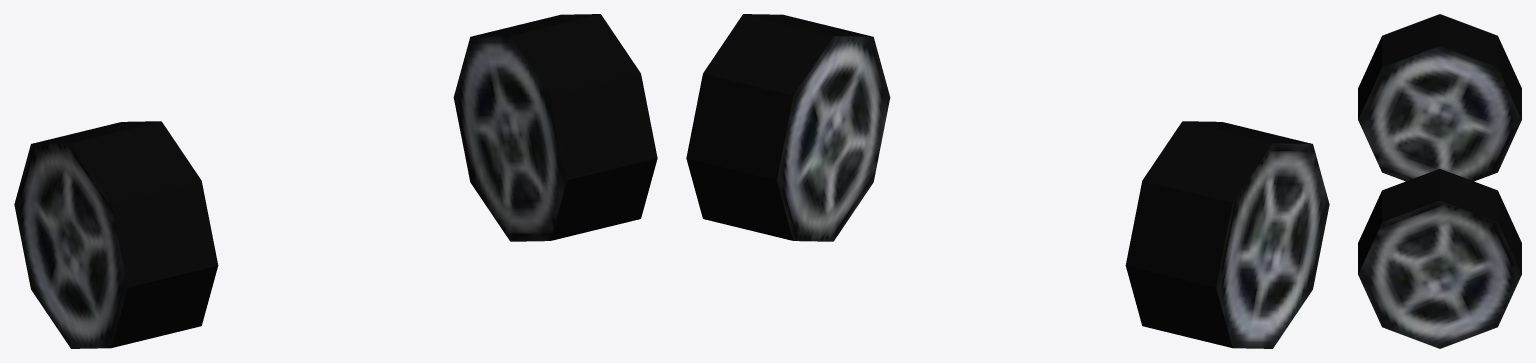
The model's file is skyline_r32_wheels_r.obj.
The picture shows the model from 3 angles, left to right: view 1: azimuth 30°, elevation 25°; view 2: azimuth 150°, elevation 25°; view 3: azimuth 270°, elevation 25°; orthographic projection. The views are drawn at different scales.
Visible parts, largest first — view 1: skyline_r32_wheels_r; view 2: skyline_r32_wheels_r; view 3: skyline_r32_wheels_r.
Boxes of the visible parts, x1,y1,x2,y2 form: skyline_r32_wheels_r: [14, 14, 657, 348]; skyline_r32_wheels_r: [686, 14, 1329, 348]; skyline_r32_wheels_r: [1358, 14, 1521, 348].
Size of the model in its own units: 1.83 by 0.6778 by 0.6778.
1 material, 1 textured.
